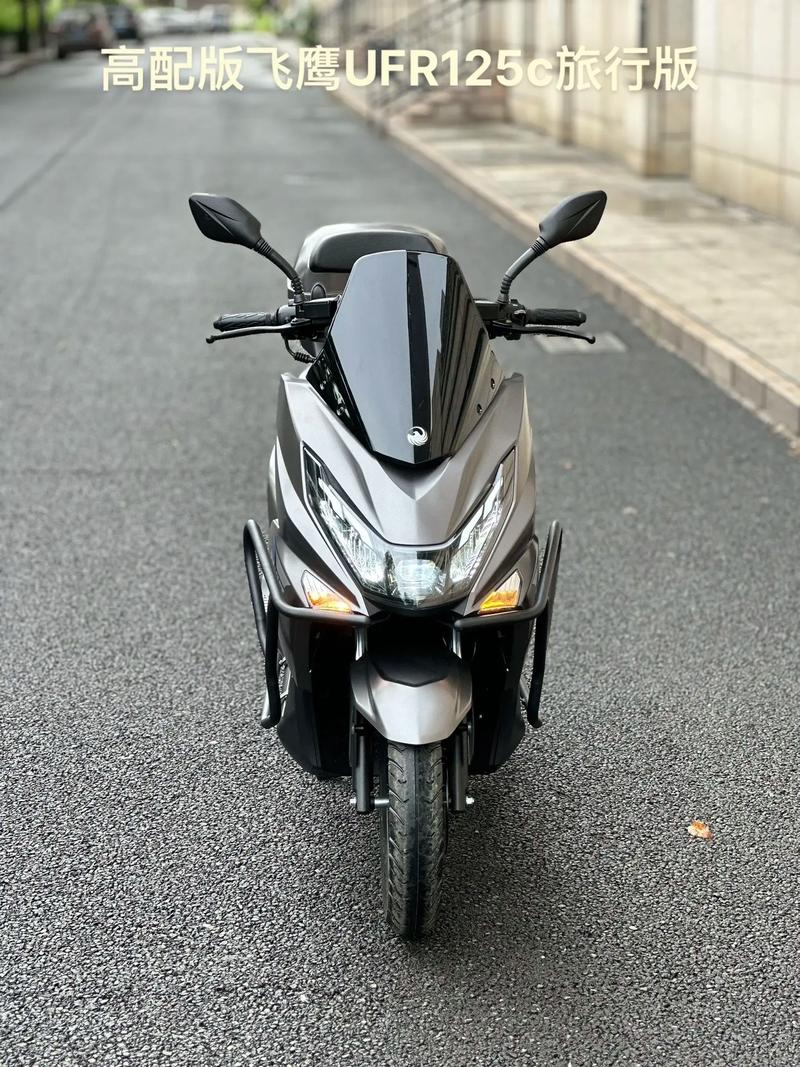摩托车: (160, 169, 634, 963)
